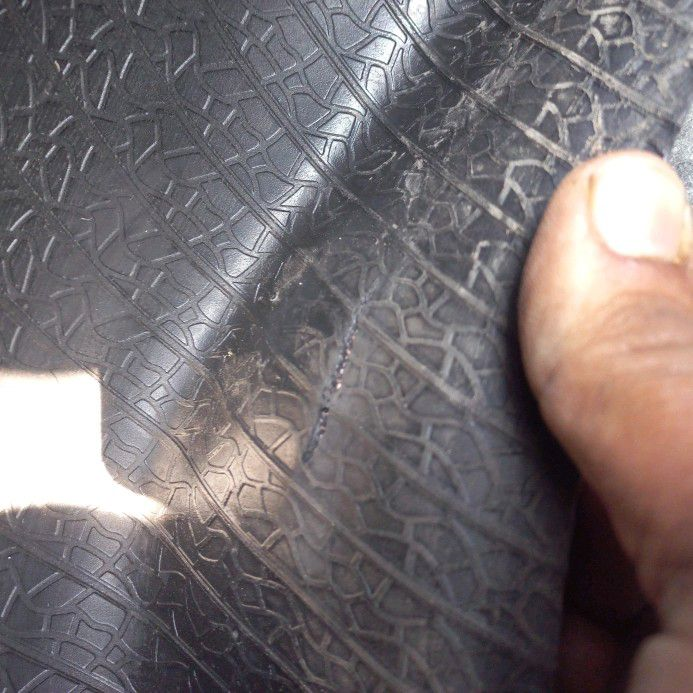cut: (299, 274, 387, 470)
